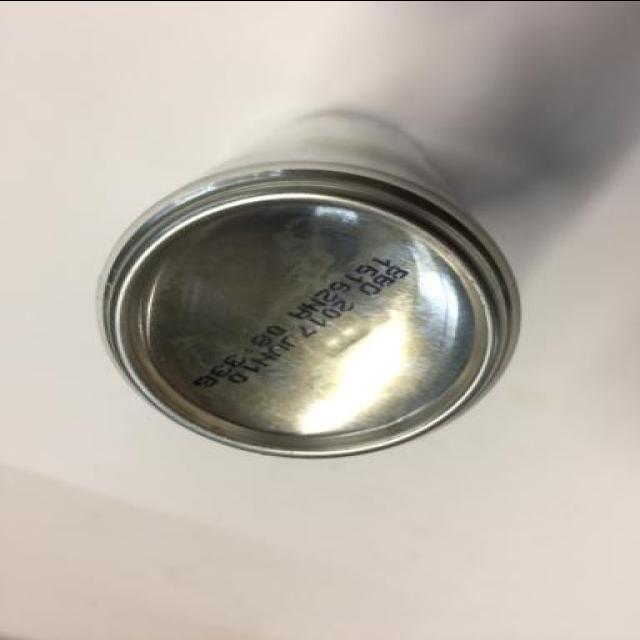litter: (94, 84, 574, 472)
